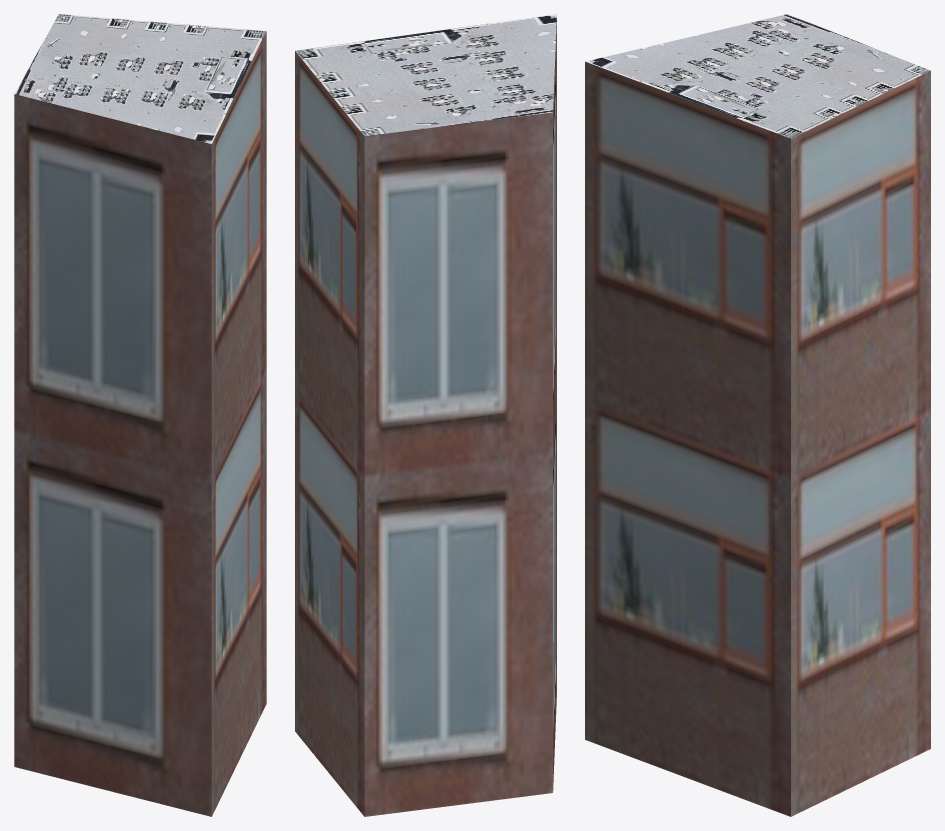
The model's file is ResTex__1390.fbx.
The picture shows the model from 3 angles, left to right: view 1: azimuth 30°, elevation 25°; view 2: azimuth 150°, elevation 25°; view 3: azimuth 270°, elevation 25°; orthographic projection.
Visible parts, largest first — view 1: CityEngineMaterial_19_m, CityEngineMaterial_15_m; view 2: CityEngineMaterial_19_m, CityEngineMaterial_15_m; view 3: CityEngineMaterial_19_m, CityEngineMaterial_15_m.
Part boxes in pixels (box(x1,y1,x2,y2)): CityEngineMaterial_19_m: box(14, 31, 266, 816); CityEngineMaterial_15_m: box(14, 14, 266, 143); CityEngineMaterial_19_m: box(295, 17, 556, 816); CityEngineMaterial_15_m: box(295, 14, 556, 136); CityEngineMaterial_19_m: box(585, 61, 930, 816); CityEngineMaterial_15_m: box(585, 14, 930, 138).
Bounding box in the file's own units: 2.37 × 6 × 2.77.
Materials: 2 (2 with a texture image).
